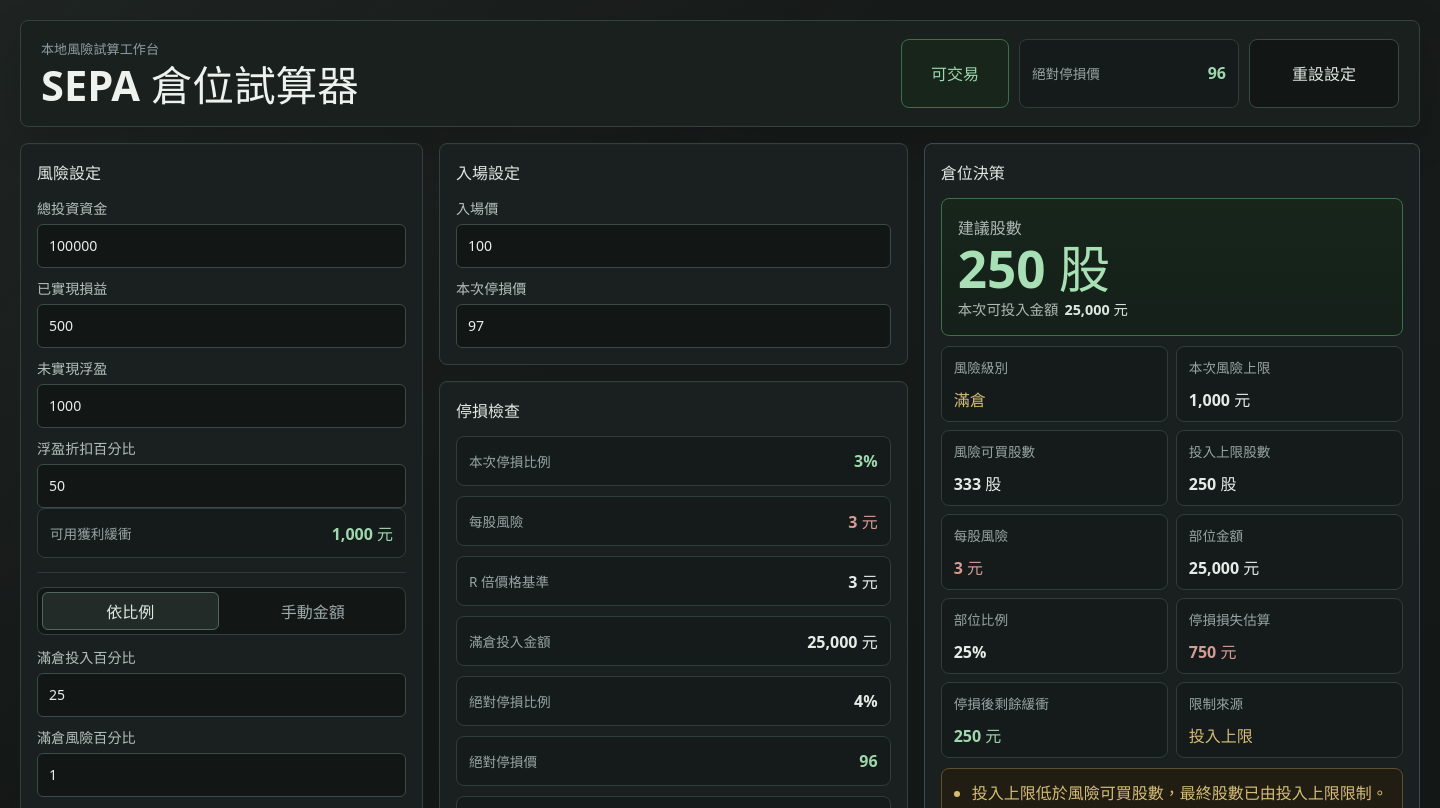
Scenario: App › 滿倉風險模式只顯示目前模式需要的欄位並提供按鈕狀態
Expected: the element named "滿倉風險模式" is shown, x1=37 y1=587 x2=406 y2=635
Expected: the number field labelled "滿倉風險百分比" is shown, x1=37 y1=753 x2=406 y2=797
Click the button "手動金額".
click(313, 611)  # box x1=224 y1=592 x2=401 y2=630
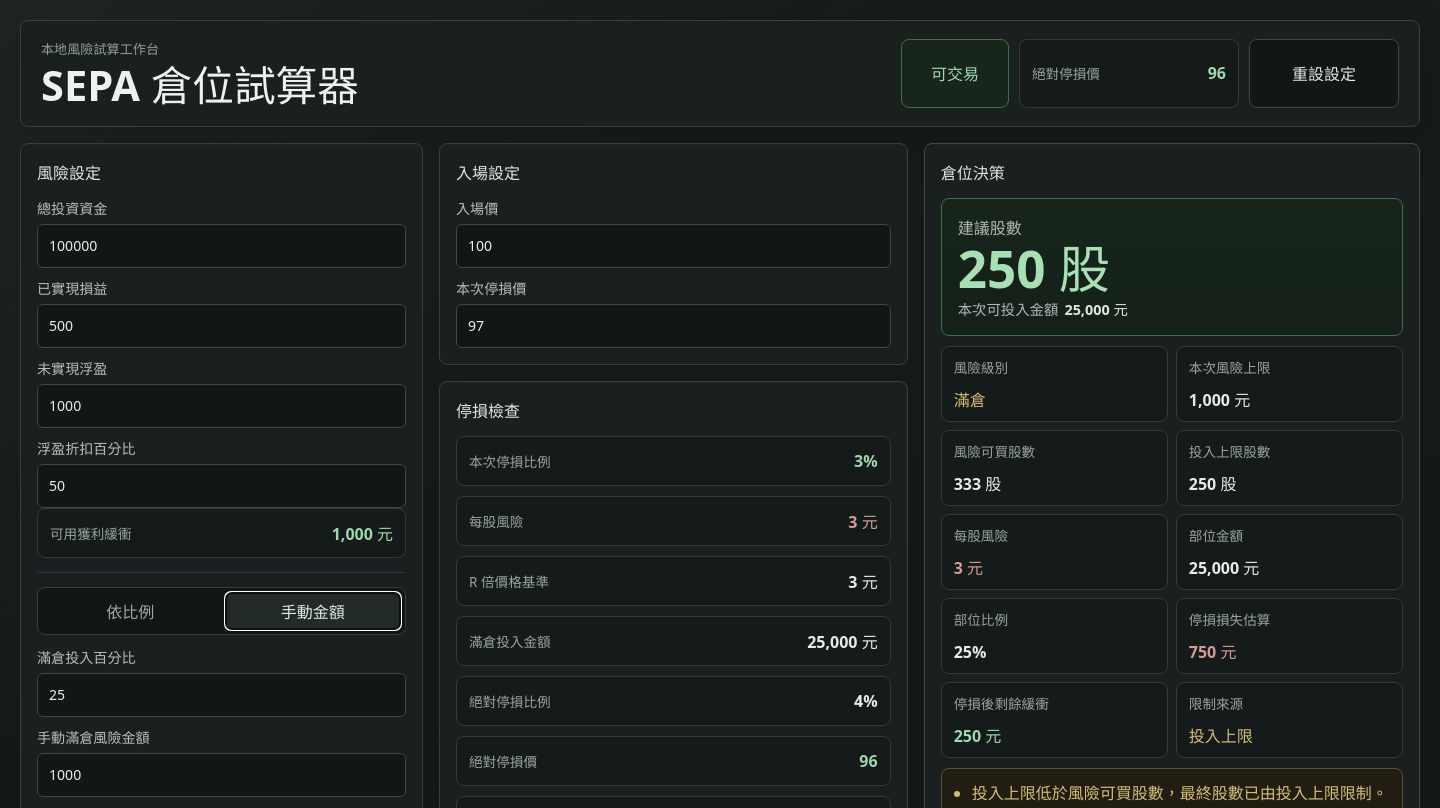
Expected: the text labelled "滿倉風險百分比" is gone
Expected: the number field labelled "手動滿倉風險金額" is shown, x1=37 y1=753 x2=406 y2=797
